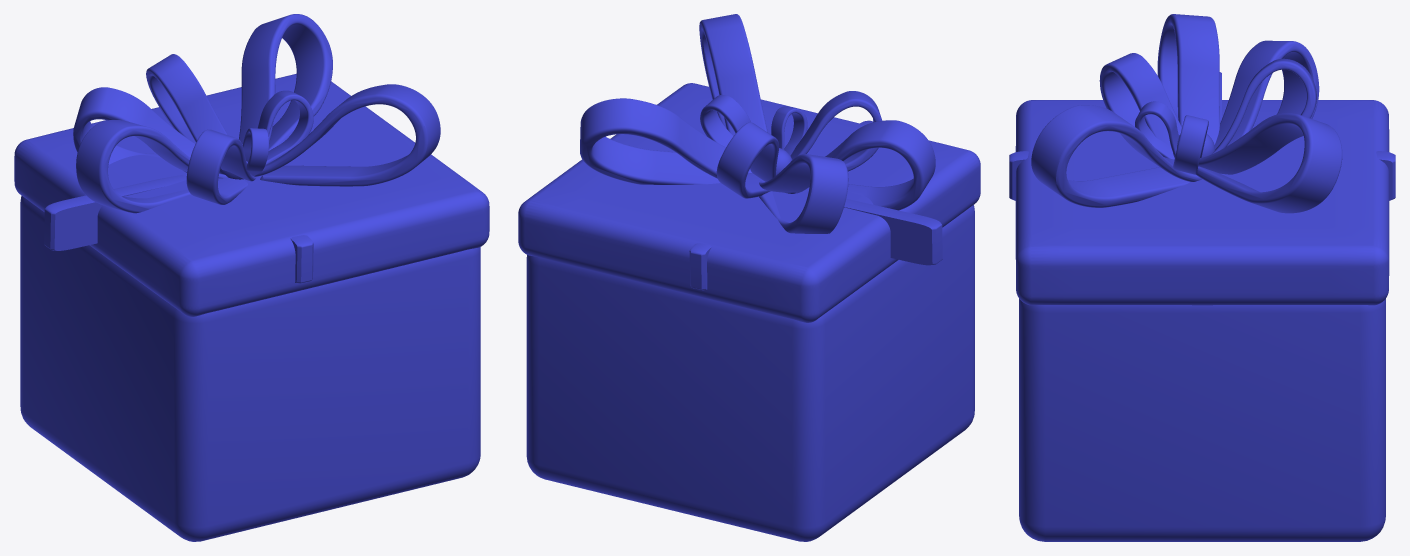
The model's file is gift_box (1).glb.
3 views of the same model, side by side, from view 1: azimuth 30°, elevation 25°; view 2: azimuth 150°, elevation 25°; view 3: azimuth 270°, elevation 25° (orthographic). The views are drawn at different scales.
Parts seen in each view (by area): view 1: base, cover, bow; view 2: base, cover, bow; view 3: base, cover, bow.
Part boxes in pixels (left/top/right/bottom): base: left=20, top=196, right=480, bottom=541; cover: left=14, top=73, right=489, bottom=316; bow: left=44, top=14, right=440, bottom=283; base: left=526, top=205, right=974, bottom=541; cover: left=518, top=83, right=980, bottom=322; bow: left=580, top=14, right=942, bottom=290; base: left=1019, top=298, right=1385, bottom=541; cover: left=1015, top=100, right=1389, bottom=305; bow: left=1009, top=14, right=1395, bottom=213.
Bounding box in the file's own units: 1.31 × 1.36 × 1.18.
